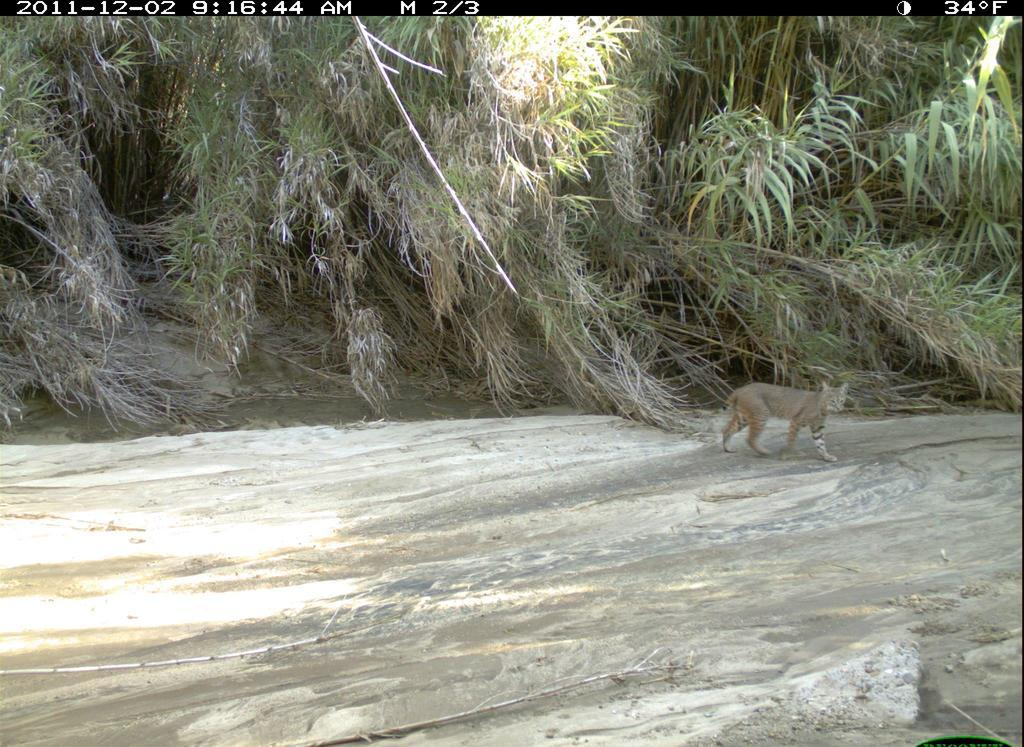bobcat: (720, 381, 854, 466)
